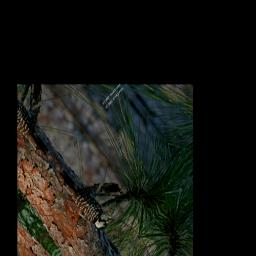Woodpecker: (47, 158, 114, 243)
